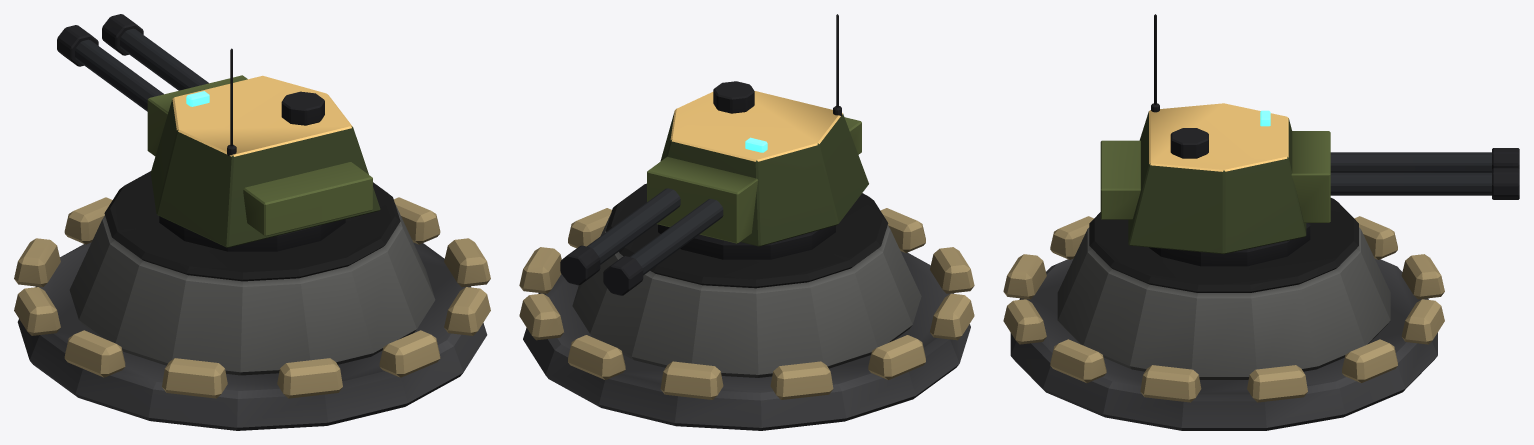
The model's file is defense_turret.glb.
3 views of the same model, side by side, from view 1: azimuth 30°, elevation 25°; view 2: azimuth 150°, elevation 25°; view 3: azimuth 270°, elevation 25° (orthographic). The views are drawn at different scales.
Visible parts, largest first — view 1: defense_turret, Turret; view 2: defense_turret, Turret; view 3: defense_turret, Turret.
Boxes of the visible parts, x1=… form: defense_turret: x1=14, y1=171, x2=490, y2=430; Turret: x1=57, y1=14, x2=380, y2=247; defense_turret: x1=519, y1=183, x2=974, y2=430; Turret: x1=560, y1=14, x2=868, y2=295; defense_turret: x1=1003, y1=198, x2=1444, y2=430; Turret: x1=1100, y1=14, x2=1519, y2=254.
Bounding box in the file's own units: 1.29 × 0.97 × 1.5.
